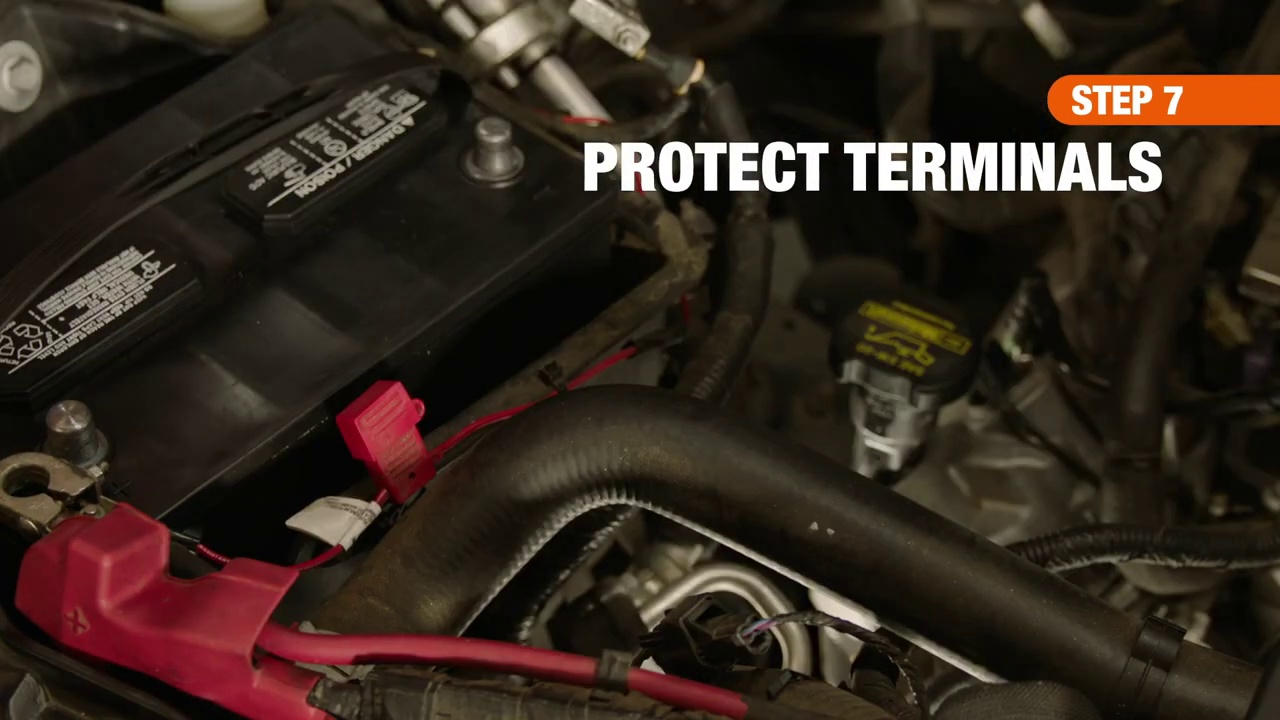battery: (17, 6, 604, 621)
neg_disconnected: (449, 94, 557, 214)
pos_disconnected: (2, 379, 141, 593)
